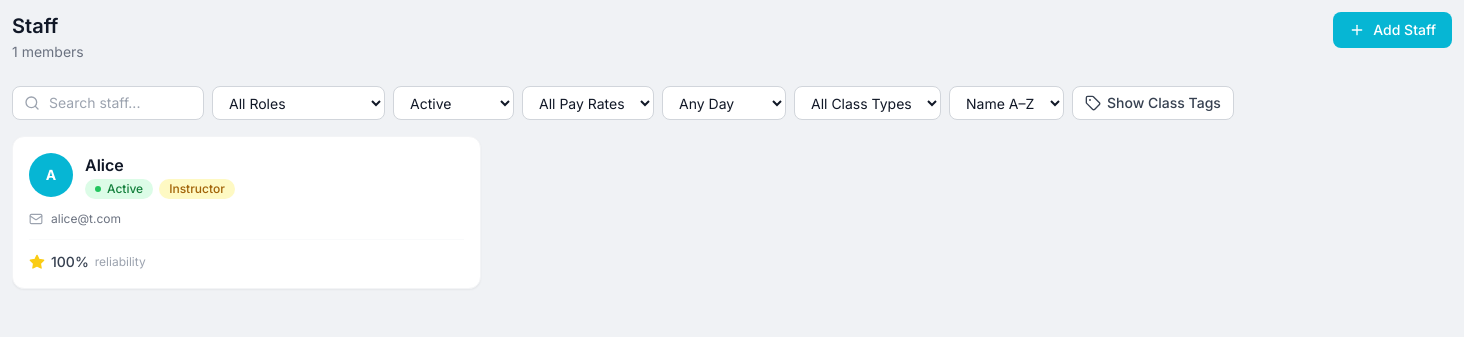
StaffPage — filters, sort, class tags (F4) › hides class tags by default and shows them when toggled
Expected: the text "Alice" is shown, [85,155,124,175]
Click the button "Show Class Tags": (1153, 103) [1072,86,1234,120]
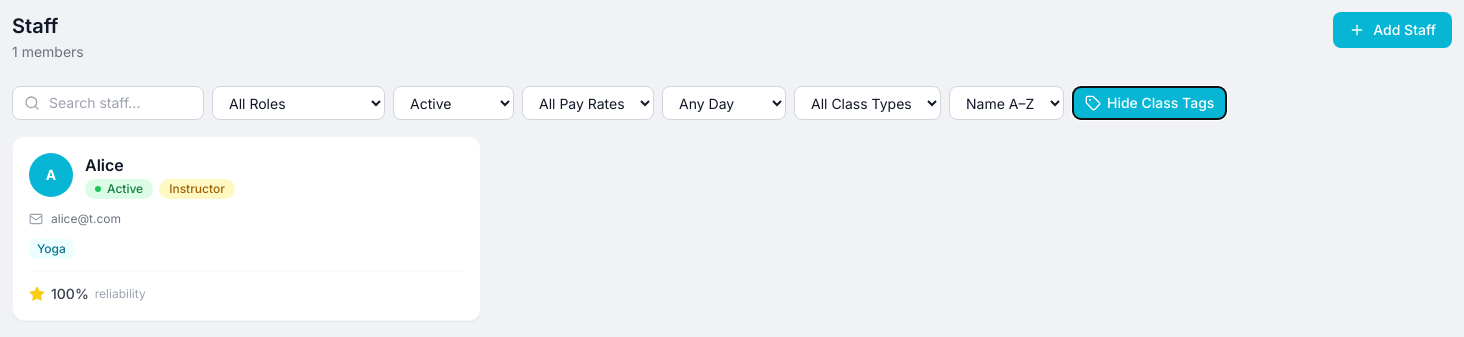
Now the text "Yoga" is shown, box [29,239,74,259]
